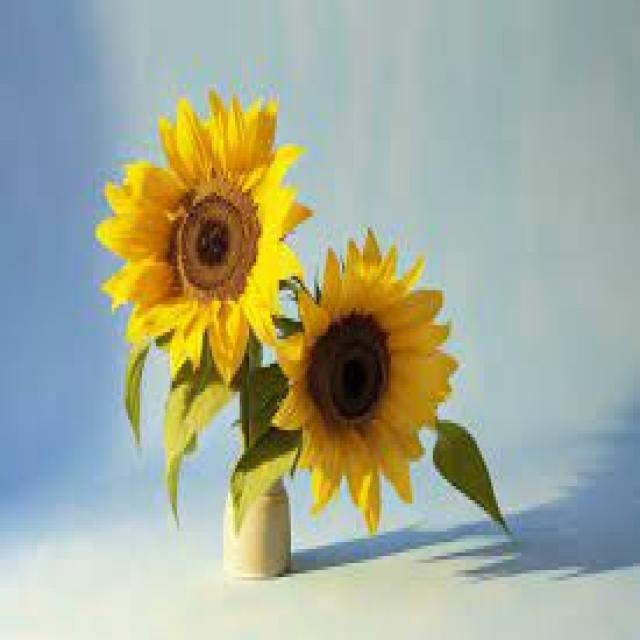sunflower: (96, 87, 312, 385), (267, 225, 458, 532)
